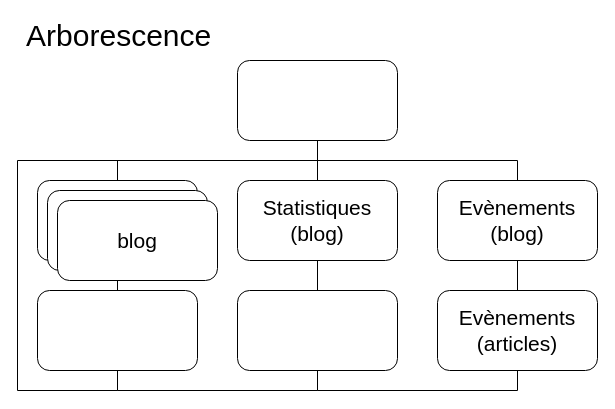
This 615x409 diagram has some shape labels left out. Here are the shapes that lost their labels. From the top down, the centre of each, then its label:
(x=317, y=100): Accueil
(x=117, y=330): Articles
(x=317, y=330): Statistiques (articles)
